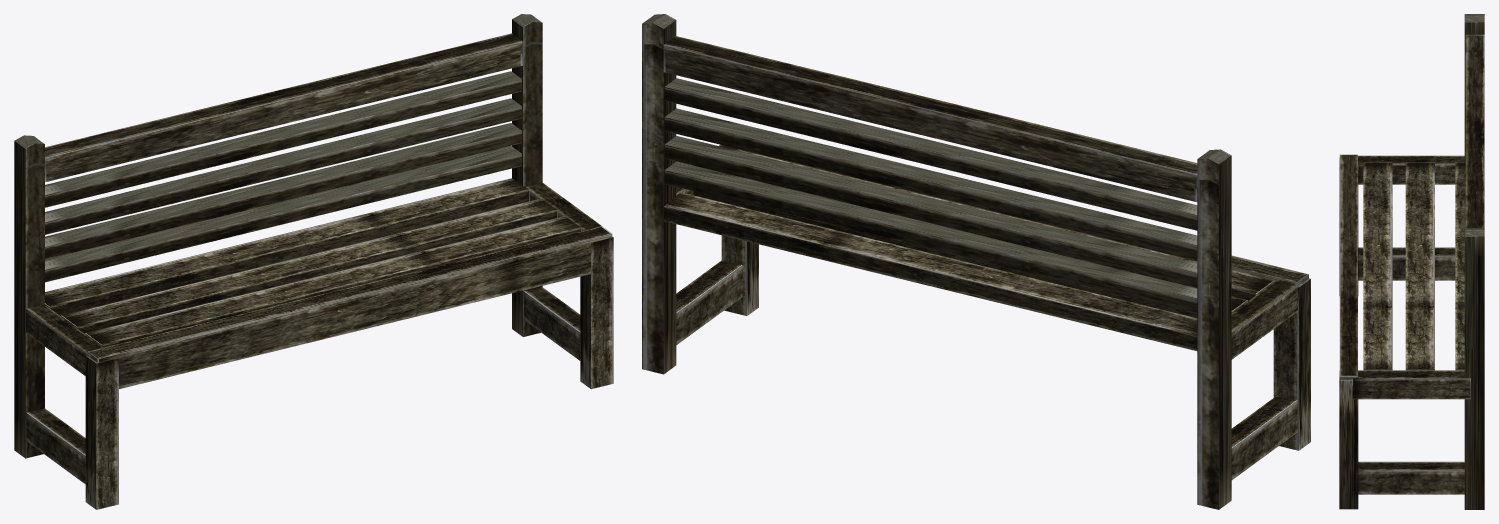
Rendered from parkbunch.DAE.
The picture shows the model from 3 angles, left to right: view 1: azimuth 30°, elevation 25°; view 2: azimuth 150°, elevation 25°; view 3: azimuth 270°, elevation 25°; orthographic projection. The views are drawn at different scales.
Parts seen in each view (by area): view 1: park_bench; view 2: park_bench; view 3: park_bench.
Boxes of the visible parts, bbox=[...] form: park_bench: bbox=[14, 14, 613, 509]; park_bench: bbox=[642, 14, 1310, 509]; park_bench: bbox=[1339, 14, 1484, 509].
Bounding box in the file's own units: 16.34 × 4.5 × 9.43.
